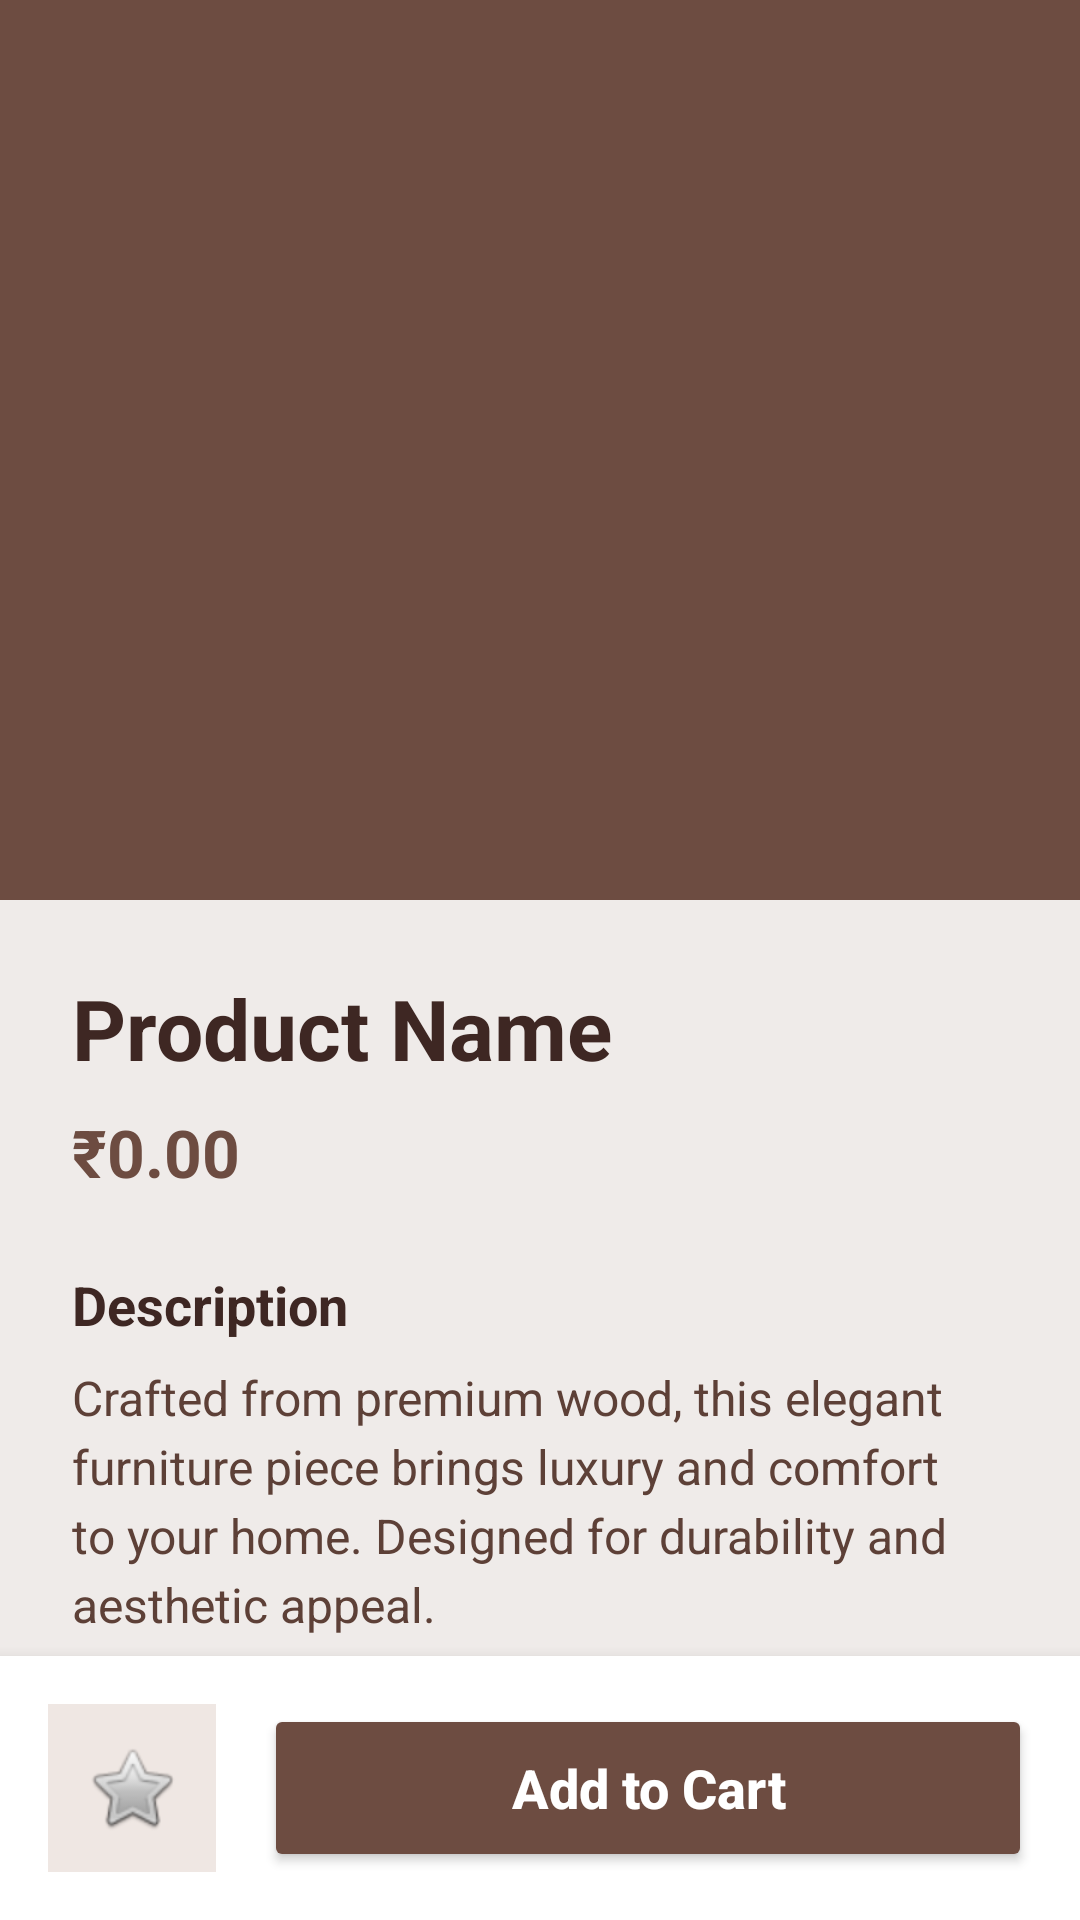

Icons on this 1080 × 1920 Android screen, each with the point to tap as (x,y):
star off: (132,1788)
